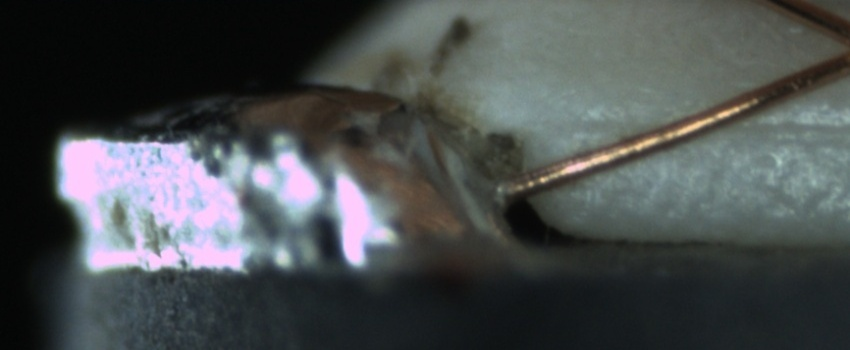DL: (563, 94, 849, 159)
